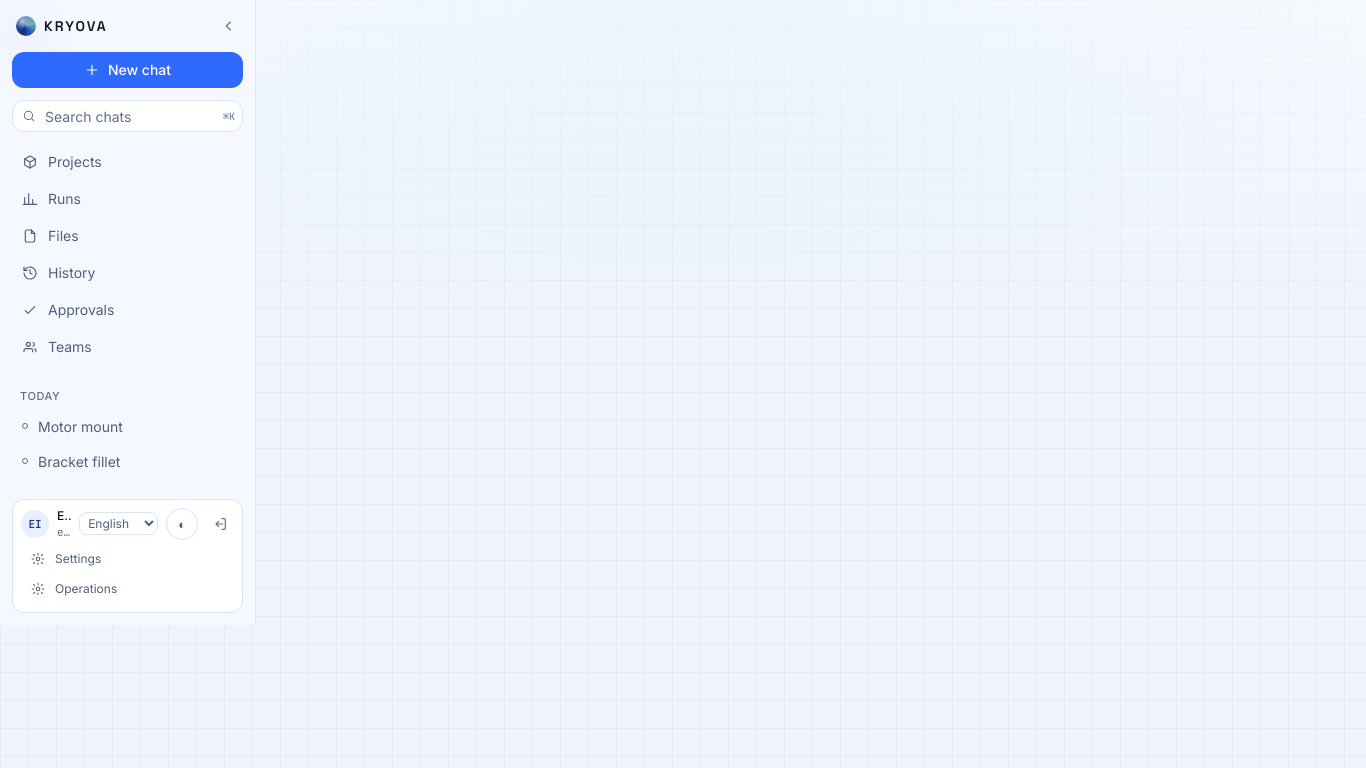
Test: searching › filters the titles on screen at once and asks the server for nothing with one character
The image size is (1366, 768).
Type "m" into the search field named "search conversations". click: (128, 116)
box: [12,100,243,132]
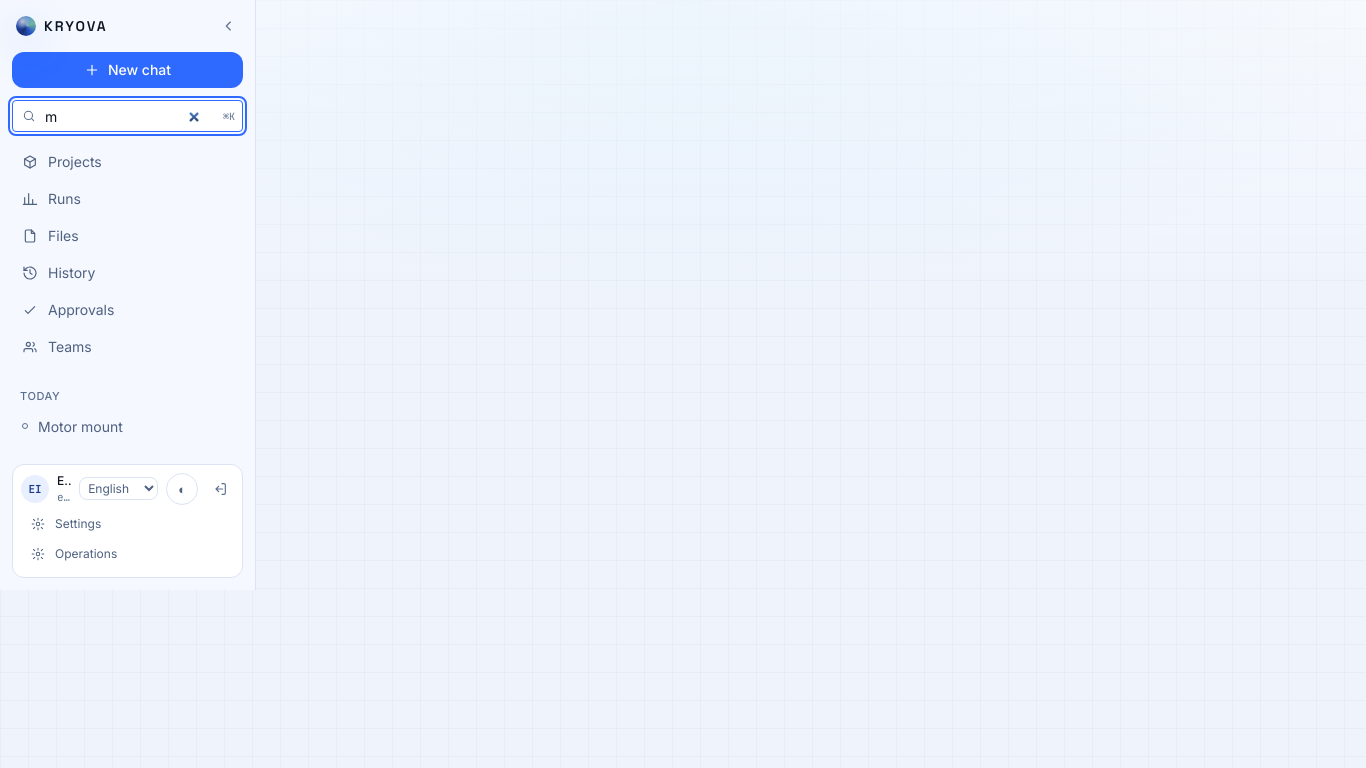
expect the text "Motor mount" is shown: met, box [38,416,123,436]
expect the link "Bracket fillet" is gone: met
